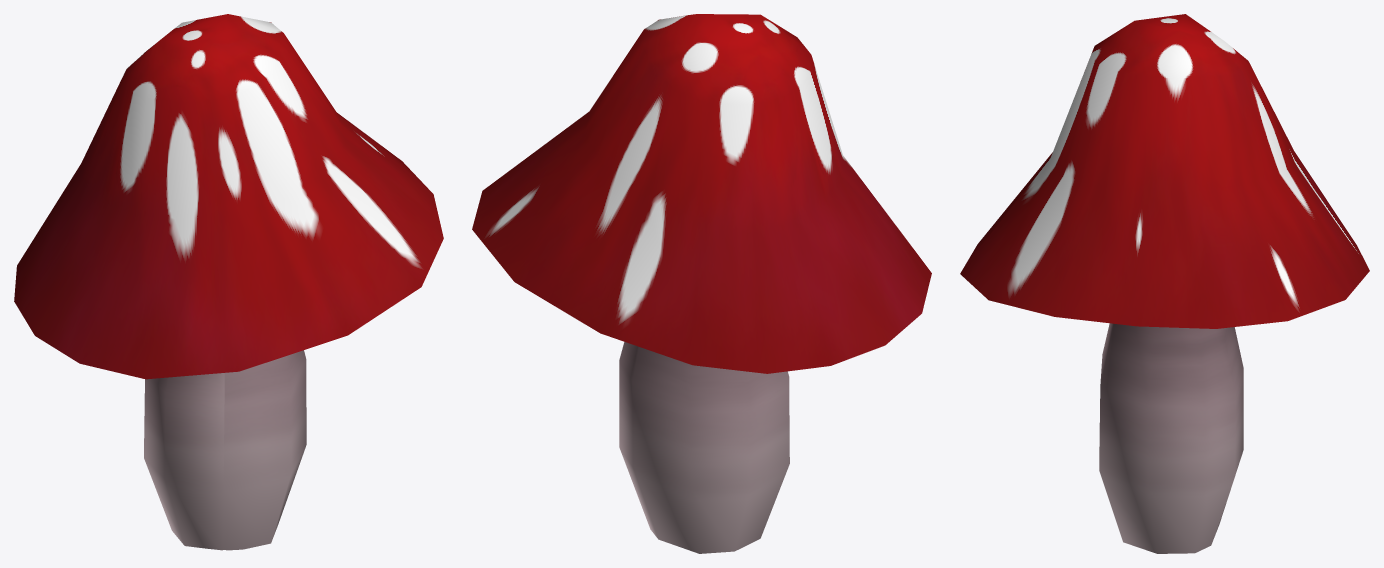
File: Mushroom04.FBX
3 views of the same model, side by side, from view 1: azimuth 30°, elevation 25°; view 2: azimuth 150°, elevation 25°; view 3: azimuth 270°, elevation 25° (orthographic). The views are drawn at different scales.
Parts seen in each view (by area): view 1: Mushroom04; view 2: Mushroom04; view 3: Mushroom04.
Part boxes in pixels (x1,y1,x2,y2): Mushroom04: (14,14,443,550); Mushroom04: (472,14,931,553); Mushroom04: (960,14,1369,553).
Size of the model in its own units: 1.12 by 1.43 by 1.06.
